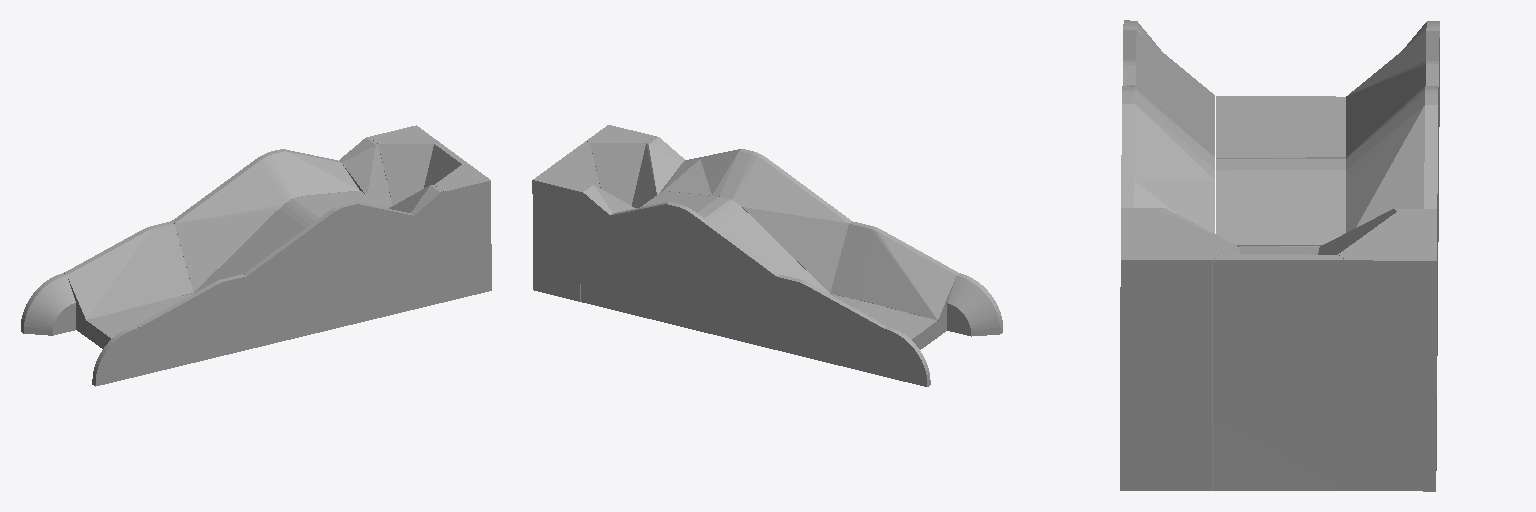
URDF robot description (ramp):
<?xml version="1.0"?>
<robot xmlns:drake="http://drake.mit.edu" name="ramp">

  <link name="ramp_link">

    <!-- Approximate mass/inertia -->
    <inertial>
      <origin xyz="0.1016 0 0.0254" rpy="0 0 0"/>
      <mass value="1.0"/>
      <inertia
        ixx="0.001"
        ixy="0.0"
        ixz="0.0"
        iyy="0.001"
        iyz="0.0"
        izz="0.001"/>
    </inertial>

    <!-- Ramp (mesh) -->

    <visual name="ramp_part_1">
      <origin xyz="0 0 0" rpy="1.5708 0 0"/>
      <geometry>
        <mesh filename="ramp1.obj" scale="0.001 0.001 0.001"/>
      </geometry>
      <material name="gray">
        <color rgba="0.7 0.7 0.7 1.0"/>
      </material>
    </visual>

    <collision name="ramp_part_1">
      <origin xyz="0 0 0" rpy="1.5708 0 0"/>
      <geometry>
        <mesh filename="ramp1.obj" scale="0.001 0.001 0.001">
          <drake:declare_convex/>
        </mesh>
      </geometry>
      <drake:proximity_properties>
        <drake:rigid_hydroelastic/>
        <drake:point_contact_stiffness value="1e7"/>
      </drake:proximity_properties>
    </collision>

    <visual name="ramp_part_2">
      <origin xyz="0 0 0" rpy="1.5708 0 0"/>
      <geometry>
        <mesh filename="ramp2.obj" scale="0.001 0.001 0.001"/>
      </geometry>
      <material name="gray">
        <color rgba="0.7 0.7 0.7 1.0"/>
      </material>
    </visual>

    <collision name="ramp_part_2">
      <origin xyz="0 0 0" rpy="1.5708 0 0"/>
      <geometry>
        <mesh filename="ramp2.obj" scale="0.001 0.001 0.001">
          <drake:declare_convex/>
        </mesh>
      </geometry>
      <drake:proximity_properties>
        <drake:rigid_hydroelastic/>
        <drake:point_contact_stiffness value="1e7"/>
      </drake:proximity_properties>
    </collision>

    <visual name="ramp_part_3">
      <origin xyz="0 0 0" rpy="1.5708 0 0"/>
      <geometry>
        <mesh filename="ramp3.obj" scale="0.001 0.001 0.001"/>
      </geometry>
      <material name="gray">
        <color rgba="0.7 0.7 0.7 1.0"/>
      </material>
    </visual>

    <collision name="ramp_part_3">
      <origin xyz="0 0 0" rpy="1.5708 0 0"/>
      <geometry>
        <mesh filename="ramp3.obj" scale="0.001 0.001 0.001">
          <drake:declare_convex/>
        </mesh>
      </geometry>
      <drake:proximity_properties>
        <drake:rigid_hydroelastic/>
        <drake:point_contact_stiffness value="1e7"/>
      </drake:proximity_properties>
    </collision>

    <visual name="ramp_part_4">
      <origin xyz="0 0 0" rpy="1.5708 0 0"/>
      <geometry>
        <mesh filename="ramp4.obj" scale="0.001 0.001 0.001"/>
      </geometry>
      <material name="gray">
        <color rgba="0.7 0.7 0.7 1.0"/>
      </material>
    </visual>

    <collision name="ramp_part_4">
      <origin xyz="0 0 0" rpy="1.5708 0 0"/>
      <geometry>
        <mesh filename="ramp4.obj" scale="0.001 0.001 0.001">
          <drake:declare_convex/>
        </mesh>
      </geometry>
      <drake:proximity_properties>
        <drake:rigid_hydroelastic/>
        <drake:point_contact_stiffness value="1e7"/>
      </drake:proximity_properties>
    </collision>

    <visual name="ramp_part_5">
      <origin xyz="0 0 0" rpy="1.5708 0 0"/>
      <geometry>
        <mesh filename="ramp5.obj" scale="0.001 0.001 0.001"/>
      </geometry>
      <material name="gray">
        <color rgba="0.7 0.7 0.7 1.0"/>
      </material>
    </visual>

    <collision name="ramp_part_5">
      <origin xyz="0 0 0" rpy="1.5708 0 0"/>
      <geometry>
        <mesh filename="ramp5.obj" scale="0.001 0.001 0.001">
          <drake:declare_convex/>
        </mesh>
      </geometry>
      <drake:proximity_properties>
        <drake:rigid_hydroelastic/>
        <drake:point_contact_stiffness value="1e7"/>
      </drake:proximity_properties>
    </collision>

    <visual name="ramp_part_6">
      <origin xyz="0 0 0" rpy="1.5708 0 0"/>
      <geometry>
        <mesh filename="ramp6.obj" scale="0.001 0.001 0.001"/>
      </geometry>
      <material name="gray">
        <color rgba="0.7 0.7 0.7 1.0"/>
      </material>
    </visual>
    <collision name="ramp_part_6">
      <origin xyz="0 0 0" rpy="1.5708 0 0"/>
      <geometry>
        <mesh filename="ramp6.obj" scale="0.001 0.001 0.001">
          <drake:declare_convex/>
        </mesh>
      </geometry>
      <drake:proximity_properties>
        <drake:rigid_hydroelastic/>
        <drake:point_contact_stiffness value="1e7"/>
      </drake:proximity_properties>
    </collision>

    <visual name="ramp_part_7">
      <origin xyz="0 0 0" rpy="1.5708 0 0"/>
      <geometry>
        <mesh filename="ramp7.obj" scale="0.001 0.001 0.001"/>
      </geometry>
      <material name="gray">
        <color rgba="0.7 0.7 0.7 1.0"/>
      </material>
    </visual>
    <collision name="ramp_part_7">
      <origin xyz="0 0 0" rpy="1.5708 0 0"/>
      <geometry>
        <mesh filename="ramp7.obj" scale="0.001 0.001 0.001">
          <drake:declare_convex/>
        </mesh>
      </geometry>
      <drake:proximity_properties>
        <drake:rigid_hydroelastic/>
        <drake:point_contact_stiffness value="1e7"/>
      </drake:proximity_properties>
    </collision>


    <visual name="ramp_part_8">
      <origin xyz="0 0 0" rpy="1.5708 0 0"/>
      <geometry>
        <mesh filename="ramp8.obj" scale="0.001 0.001 0.001"/>
      </geometry>
      <material name="gray">
        <color rgba="0.7 0.7 0.7 1.0"/>
      </material>
    </visual>
    <collision name="ramp_part_8">
      <origin xyz="0 0 0" rpy="1.5708 0 0"/>
      <geometry>
        <mesh filename="ramp8.obj" scale="0.001 0.001 0.001">
          <drake:declare_convex/>
        </mesh>
      </geometry>
      <drake:proximity_properties>
        <drake:rigid_hydroelastic/>
        <drake:point_contact_stiffness value="1e7"/>
      </drake:proximity_properties>
    </collision>

    <visual name="ramp_part_9">
      <origin xyz="0 0 0" rpy="1.5708 0 0"/>
      <geometry>
        <mesh filename="ramp9.obj" scale="0.001 0.001 0.001"/>
      </geometry>
      <material name="gray">
        <color rgba="0.7 0.7 0.7 1.0"/>
      </material>
    </visual>
    <collision name="ramp_part_9">
      <origin xyz="0 0 0" rpy="1.5708 0 0"/>
      <geometry>
        <mesh filename="ramp9.obj" scale="0.001 0.001 0.001">
          <drake:declare_convex/>
        </mesh>
      </geometry>
      <drake:proximity_properties>
        <drake:rigid_hydroelastic/>
        <drake:point_contact_stiffness value="1e7"/>
      </drake:proximity_properties>
    </collision>

    <visual name="ramp_part_10">
      <origin xyz="0 0 0" rpy="1.5708 0 0"/>
      <geometry>
        <mesh filename="ramp10.obj" scale="0.001 0.001 0.001"/>
      </geometry>
      <material name="gray">
        <color rgba="0.7 0.7 0.7 1.0"/>
      </material>
    </visual>
    <collision name="ramp_part_10">
      <origin xyz="0 0 0" rpy="1.5708 0 0"/>
      <geometry>
        <mesh filename="ramp10.obj" scale="0.001 0.001 0.001">
          <drake:declare_convex/>
        </mesh>
      </geometry>
      <drake:proximity_properties>
        <drake:rigid_hydroelastic/>
        <drake:point_contact_stiffness value="1e7"/>
      </drake:proximity_properties>
    </collision>

    <visual name="ramp_part_11">
      <origin xyz="0 0 0" rpy="1.5708 0 0"/>
      <geometry>
        <mesh filename="ramp11.obj" scale="0.001 0.001 0.001"/>
      </geometry>
      <material name="gray">
        <color rgba="0.7 0.7 0.7 1.0"/>
      </material>
    </visual>
    <collision name="ramp_part_11">
      <origin xyz="0 0 0" rpy="1.5708 0 0"/>
      <geometry>
        <mesh filename="ramp11.obj" scale="0.001 0.001 0.001">
          <drake:declare_convex/>
        </mesh>
      </geometry>
      <drake:proximity_properties>
        <drake:rigid_hydroelastic/>
        <drake:point_contact_stiffness value="1e7"/>
      </drake:proximity_properties>
    </collision>

    <visual name="ramp_part_12">
      <origin xyz="0 0 0" rpy="1.5708 0 0"/>
      <geometry>
        <mesh filename="ramp12.obj" scale="0.001 0.001 0.001"/>
      </geometry>
      <material name="gray">
        <color rgba="0.7 0.7 0.7 1.0"/>
      </material>
    </visual>
    <collision name="ramp_part_12">
      <origin xyz="0 0 0" rpy="1.5708 0 0"/>
      <geometry>
        <mesh filename="ramp12.obj" scale="0.001 0.001 0.001">
          <drake:declare_convex/>
        </mesh>
      </geometry>
      <drake:proximity_properties>
        <drake:rigid_hydroelastic/>
        <drake:point_contact_stiffness value="1e7"/>
      </drake:proximity_properties>
    </collision>

    <visual name="ramp_part_13">
      <origin xyz="0 0 0" rpy="1.5708 0 0"/>
      <geometry>
        <mesh filename="ramp13.obj" scale="0.001 0.001 0.001"/>
      </geometry>
      <material name="gray">
        <color rgba="0.7 0.7 0.7 1.0"/>
      </material>
    </visual>
    <collision name="ramp_part_13">
      <origin xyz="0 0 0" rpy="1.5708 0 0"/>
      <geometry>
        <mesh filename="ramp13.obj" scale="0.001 0.001 0.001">
          <drake:declare_convex/>
        </mesh>
      </geometry>
      <drake:proximity_properties>
        <drake:rigid_hydroelastic/>
        <drake:point_contact_stiffness value="1e7"/>
      </drake:proximity_properties>
    </collision>

    <visual name="ramp_part_14">
      <origin xyz="0 0 0" rpy="1.5708 0 0"/>
      <geometry>
        <mesh filename="ramp14.obj" scale="0.001 0.001 0.001"/>
      </geometry>
      <material name="gray">
        <color rgba="0.7 0.7 0.7 1.0"/>
      </material>
    </visual>
    <collision name="ramp_part_14">
      <origin xyz="0 0 0" rpy="1.5708 0 0"/>
      <geometry>
        <mesh filename="ramp14.obj" scale="0.001 0.001 0.001">
          <drake:declare_convex/>
        </mesh>
      </geometry>
      <drake:proximity_properties>
        <drake:rigid_hydroelastic/>
        <drake:point_contact_stiffness value="1e7"/>
      </drake:proximity_properties>
    </collision>


  </link>

</robot>

--- Facts derived from the render (not from the file) ---
3 views of the same robot in one strip: view 1: azimuth 30°, elevation 25°; view 2: azimuth 150°, elevation 25°; view 3: azimuth 270°, elevation 25° (orthographic).
Model ramp with 1 links and 0 joints (none), rooted at ramp_link, posed every joint at zero.
Visible links, largest first — view 1: ramp_link; view 2: ramp_link; view 3: ramp_link.
Boxes of the visible links, left/top/right/bottom form: ramp_link: left=21, top=125, right=491, bottom=386; ramp_link: left=532, top=125, right=1002, bottom=386; ramp_link: left=1120, top=20, right=1439, bottom=491.
Bounding box of the posed robot: 0.1846 × 0.0616 × 0.0532 m (x, y, z).
14 mesh visuals loaded from 14 distinct referenced files (14 OBJ).
